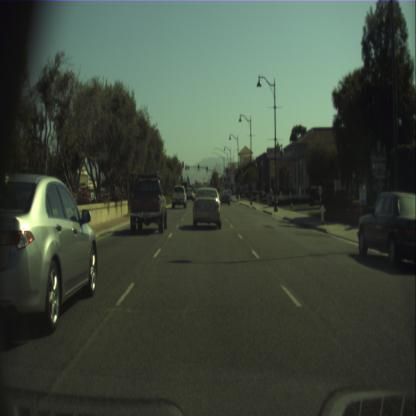Green: (197, 164, 199, 170), (206, 166, 208, 172), (224, 178, 225, 184)
Red: (184, 164, 186, 171)
